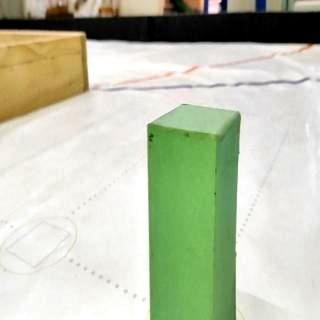greenbox: (145, 101, 245, 320)
